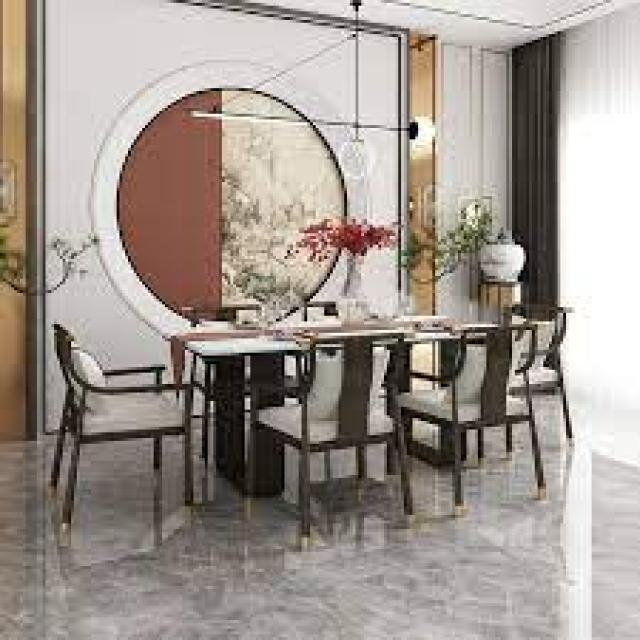table: (50, 282, 594, 545)
